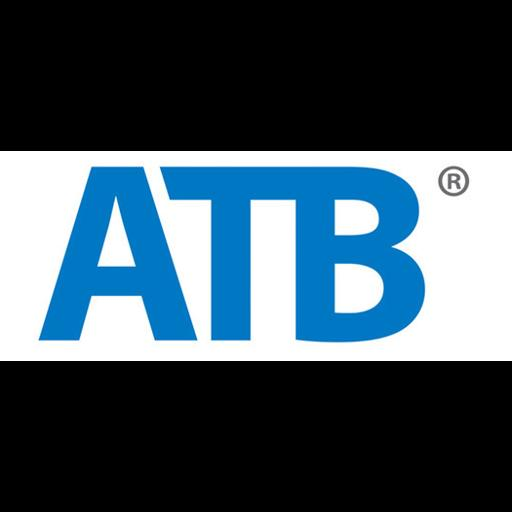ATB Financial: (0, 151, 512, 361)
